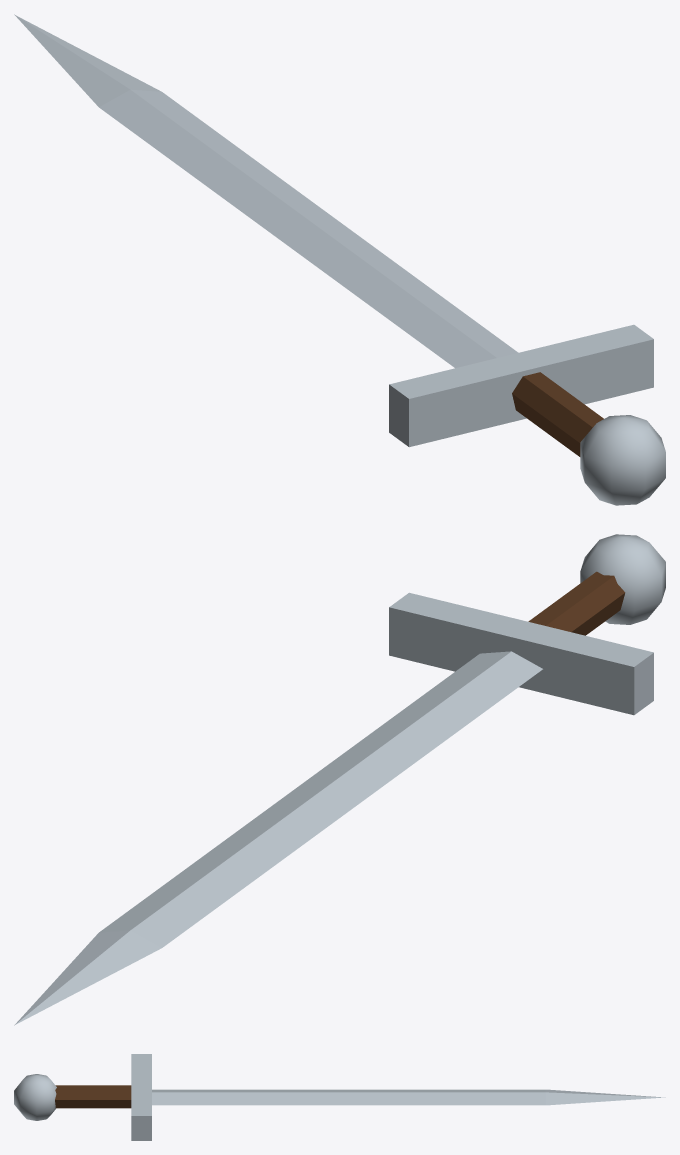
File: Weapon_Sword_Steel.fbx
3 renders of one model, top to bottom at view 1: azimuth 30°, elevation 25°; view 2: azimuth 150°, elevation 25°; view 3: azimuth 270°, elevation 25°, orthographic. The views are drawn at different scales.
Parts seen in each view (by area): view 1: Weapon_Sword_Steel; view 2: Weapon_Sword_Steel; view 3: Weapon_Sword_Steel.
Part boxes in pixels (bbox=[...]): Weapon_Sword_Steel: bbox=[14, 14, 665, 505]; Weapon_Sword_Steel: bbox=[14, 534, 665, 1025]; Weapon_Sword_Steel: bbox=[14, 1054, 665, 1140].
Size of the model in its own units: 0.085 by 0.028 by 0.3793.
